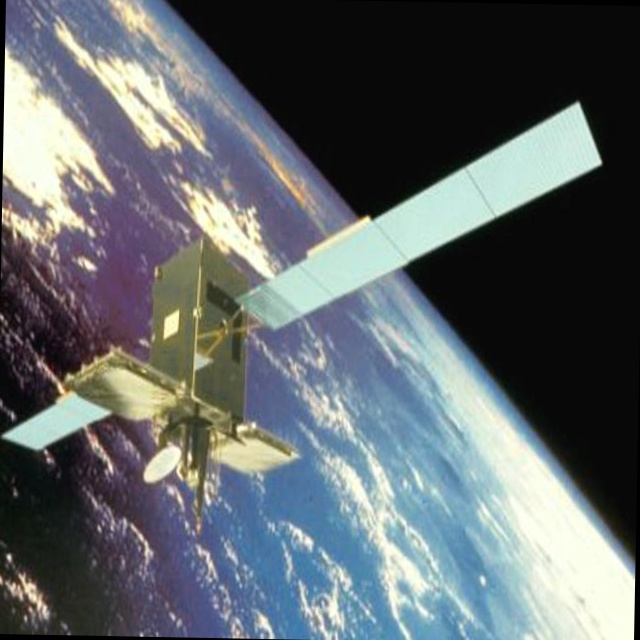medium_debris: (0, 75, 640, 555)
